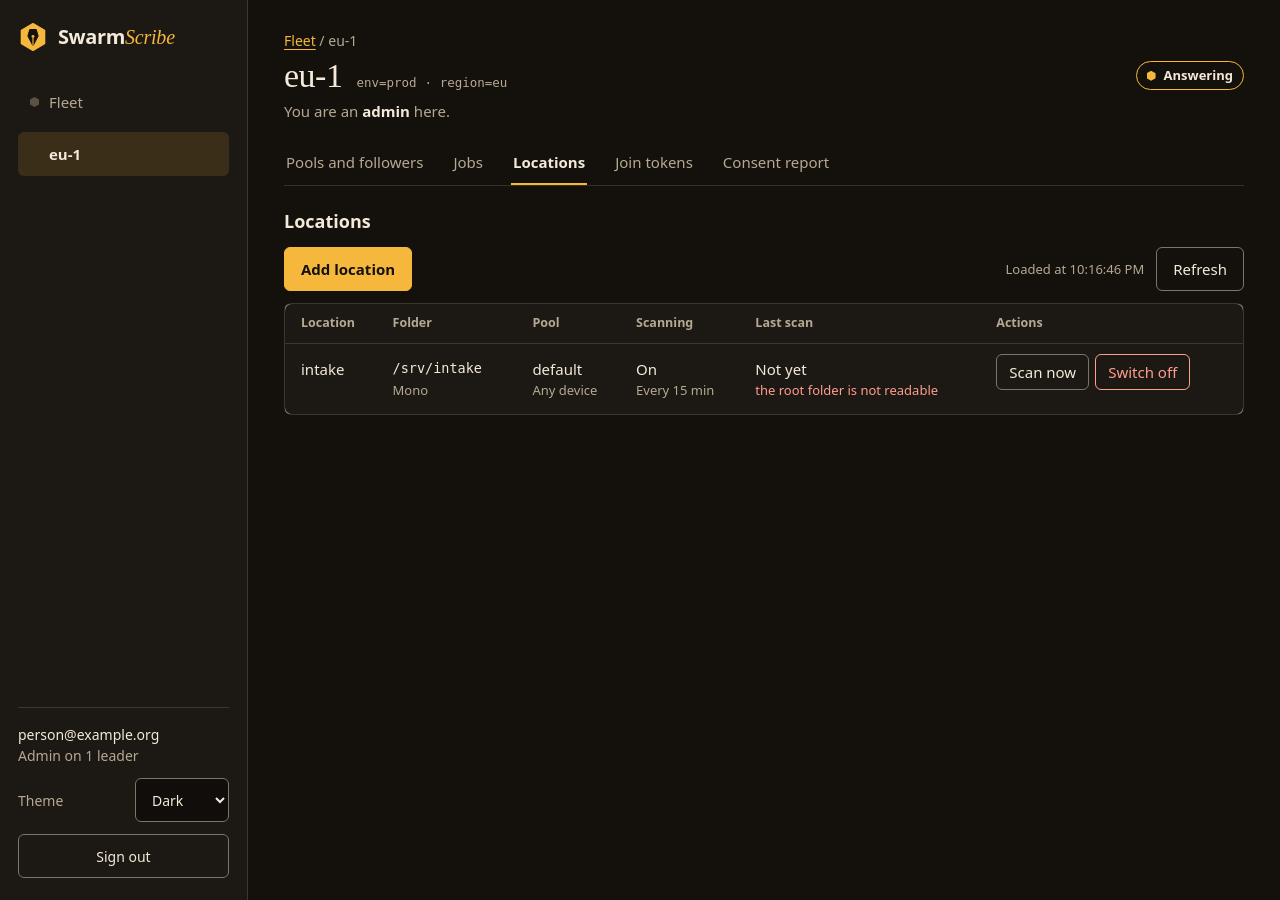
Scenario: locations tab › keeps the disable dialog open and announces the failure
Step 1. Click the button with aria-label "Switch off intake" → (1143, 372), box [1095,354,1190,390]
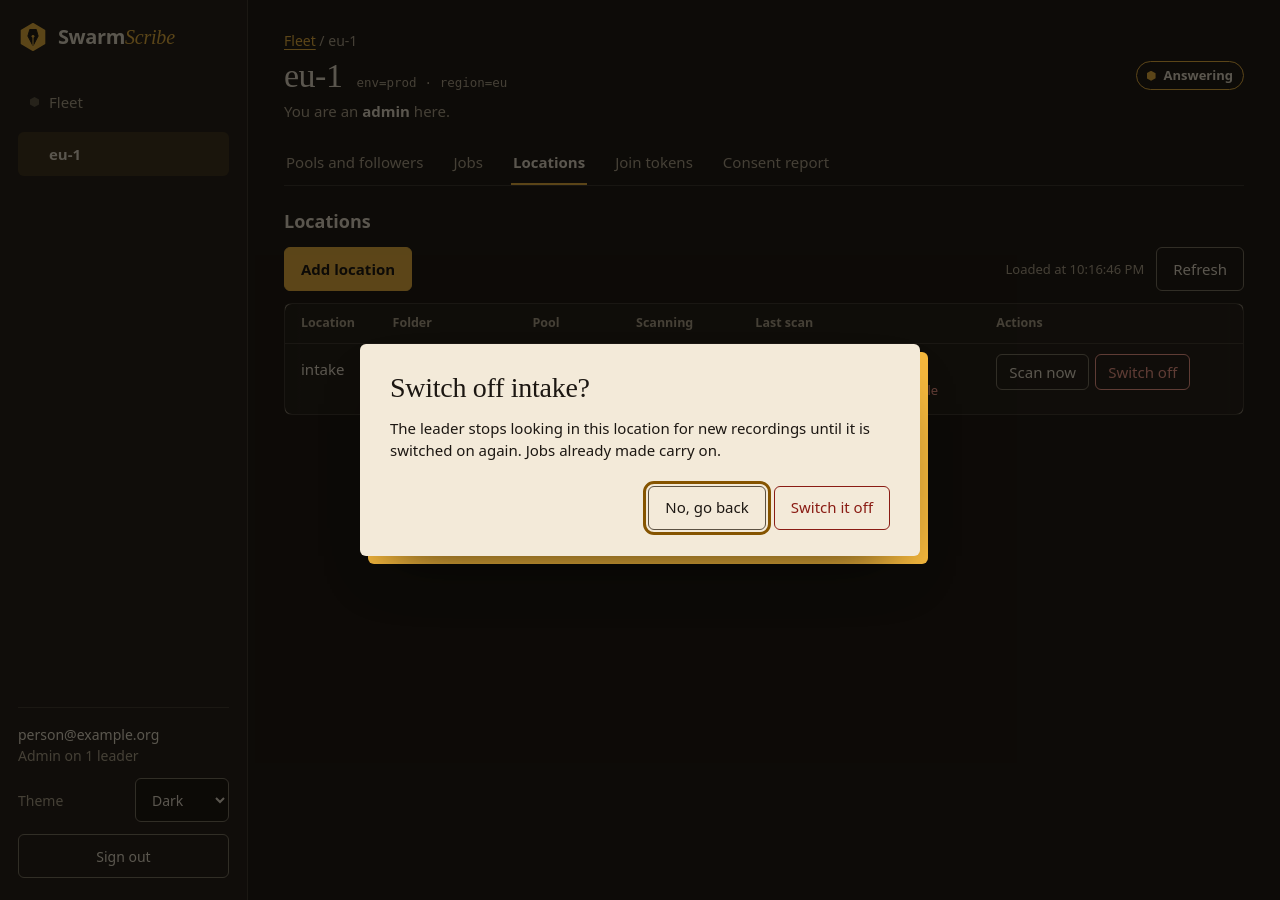
Step 2. Click the button "Switch it off" → (832, 508), box [774,486,890,530]
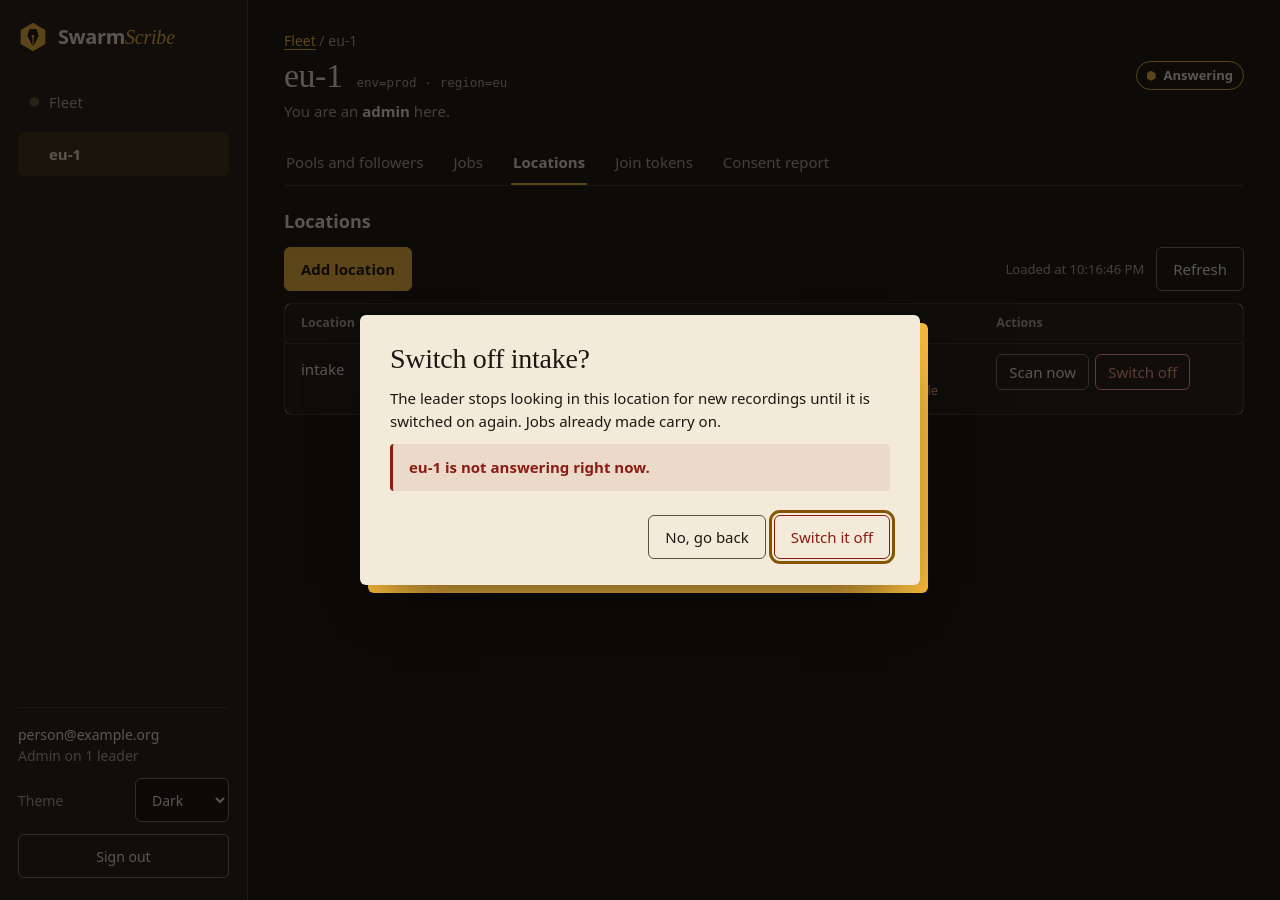
Expected: the message reads "eu-1 is not answering right now.", [409,457,650,477]
